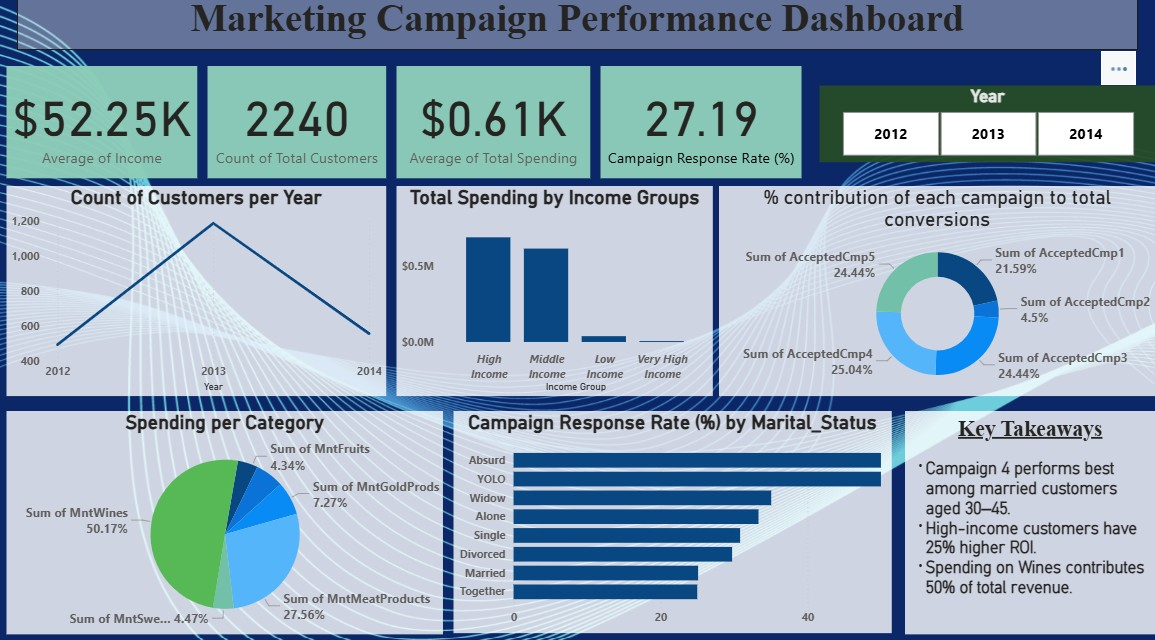

Layout of this report page (visuals, bound fields, positions):
{"tool":"powerbi","page":{"name":"Page 1","canvas":[1280,720],"ordinal":0},"visuals":[{"type":"card","fields":{"Values":["CountNonNull(marketing_data.Total Customers)"]},"box":[233.6,82.8,197.1,124.2],"z":0},{"type":"textbox","box":[23.2,0,1237.4,64.6],"z":1000},{"type":"card","fields":{"Values":["Avg(marketing_data.Income)"]},"box":[11.6,82.8,210.4,124.2],"z":2000},{"type":"card","fields":{"Values":["Avg(marketing_data.Total Spending)"]},"box":[442.3,82.8,213.7,124.2],"z":3000},{"type":"card","fields":{"Values":["marketing_data.Campaign Response Rate (%)"]},"box":[667.6,82.8,222,124.2],"z":4000},{"type":"slicer","title":"Year","fields":{"Values":["marketing_data.Year"]},"box":[909.4,104.4,371.1,84.5],"z":5000},{"type":"lineChart","title":"Count of Customers per Year","fields":{"Category":["marketing_data.Year"],"Y":["CountNonNull(marketing_data.Dt_Customer)"]},"box":[11.6,215.3,419.1,231.9],"z":6000},{"type":"donutChart","title":"% contribution of each campaign to total conversions","fields":{"Y":["Sum(marketing_data.AcceptedCmp1)","Sum(marketing_data.AcceptedCmp2)","Sum(marketing_data.AcceptedCmp3)","Sum(marketing_data.AcceptedCmp4)","Sum(marketing_data.AcceptedCmp5)"]},"box":[798.4,215.3,482,231.9],"z":7000},{"type":"barChart","fields":{"Y":["marketing_data.Campaign Response Rate (%)"],"Category":["marketing_data.Marital_Status"]},"box":[505.2,463.8,483.7,245.2],"z":8000},{"type":"pieChart","title":"Spending per Category","fields":{"Y":["Sum(marketing_data.MntFruits)","Sum(marketing_data.MntFishProducts)","Sum(marketing_data.MntGoldProds)","Sum(marketing_data.MntMeatProducts)","Sum(marketing_data.MntSweetProducts)","Sum(marketing_data.MntWines)"]},"box":[11.6,463.8,482,246.8],"z":9000},{"type":"clusteredColumnChart","title":"Total Spending by Income Groups","fields":{"Category":["marketing_data.Income Group"],"Y":["Sum(marketing_data.Total Spending)"]},"box":[442.3,215.3,349.5,231.9],"z":10000},{"type":"textbox","box":[1003.8,463.8,276.6,246.8],"z":11000}]}

Visuals, with their boxes in screenshot pixels (x1, y1, x2, y2), scaled from the page's 1280x720 canvas onto the 1155x640 screenshot:
card - CountNonNull(marketing_data.Total Customers): 211 74 389 184
textbox: 21 0 1137 57
card - Avg(marketing_data.Income): 10 74 200 184
card - Avg(marketing_data.Total Spending): 399 74 592 184
card - marketing_data.Campaign Response Rate (%): 602 74 803 184
"Year" slicer: 821 93 1154 168
"Count of Customers per Year" lineChart: 10 191 389 398
"% contribution of each campaign to total conversions" donutChart: 720 191 1154 398
barChart - marketing_data.Campaign Response Rate (%) x marketing_data.Marital_Status: 456 412 892 630
"Spending per Category" pieChart: 10 412 445 632
"Total Spending by Income Groups" clusteredColumnChart: 399 191 714 398
textbox: 906 412 1154 632
